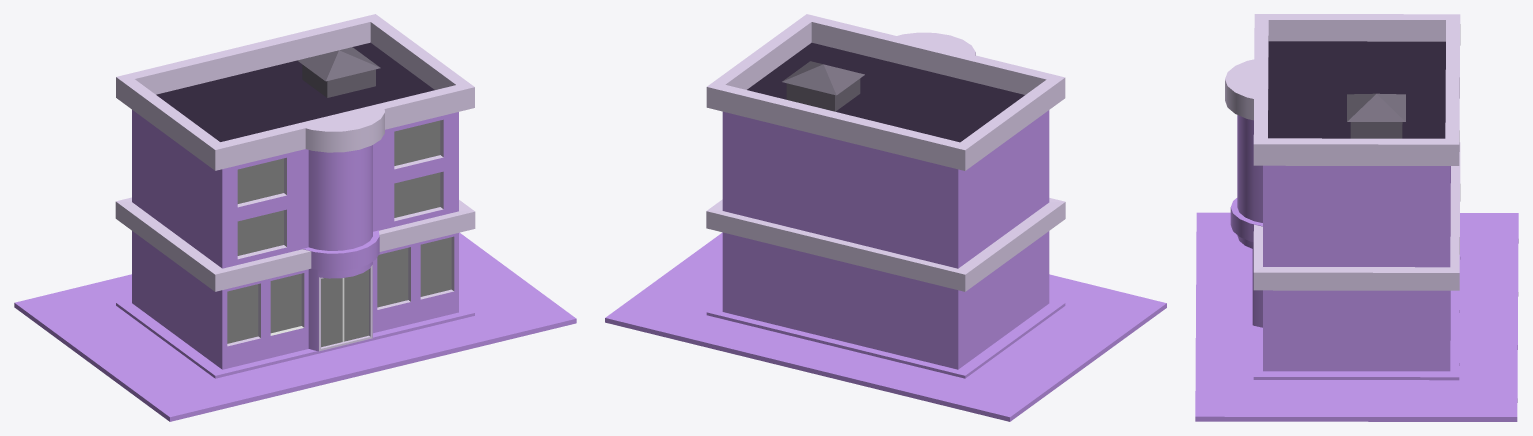
The model's file is mid1.glb.
3 renders of one model, left to right at view 1: azimuth 30°, elevation 25°; view 2: azimuth 150°, elevation 25°; view 3: azimuth 270°, elevation 25°, orthographic. The views are drawn at different scales.
Parts seen in each view (by area): view 1: Commercial 5; view 2: Commercial 5; view 3: Commercial 5.
Boxes of the visible parts, bbox=[...] form: Commercial 5: bbox=[14, 14, 576, 421]; Commercial 5: bbox=[605, 14, 1166, 421]; Commercial 5: bbox=[1195, 14, 1518, 421].
Bounding box in the file's own units: 20.66 × 11.9 × 13.81.
1 material, 1 textured.
